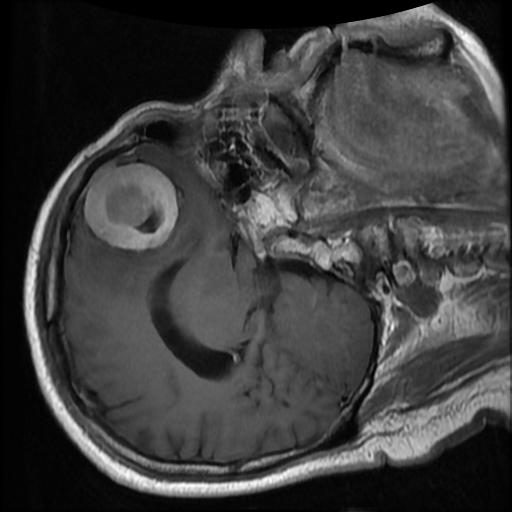meningioma: (81, 163, 179, 251)
